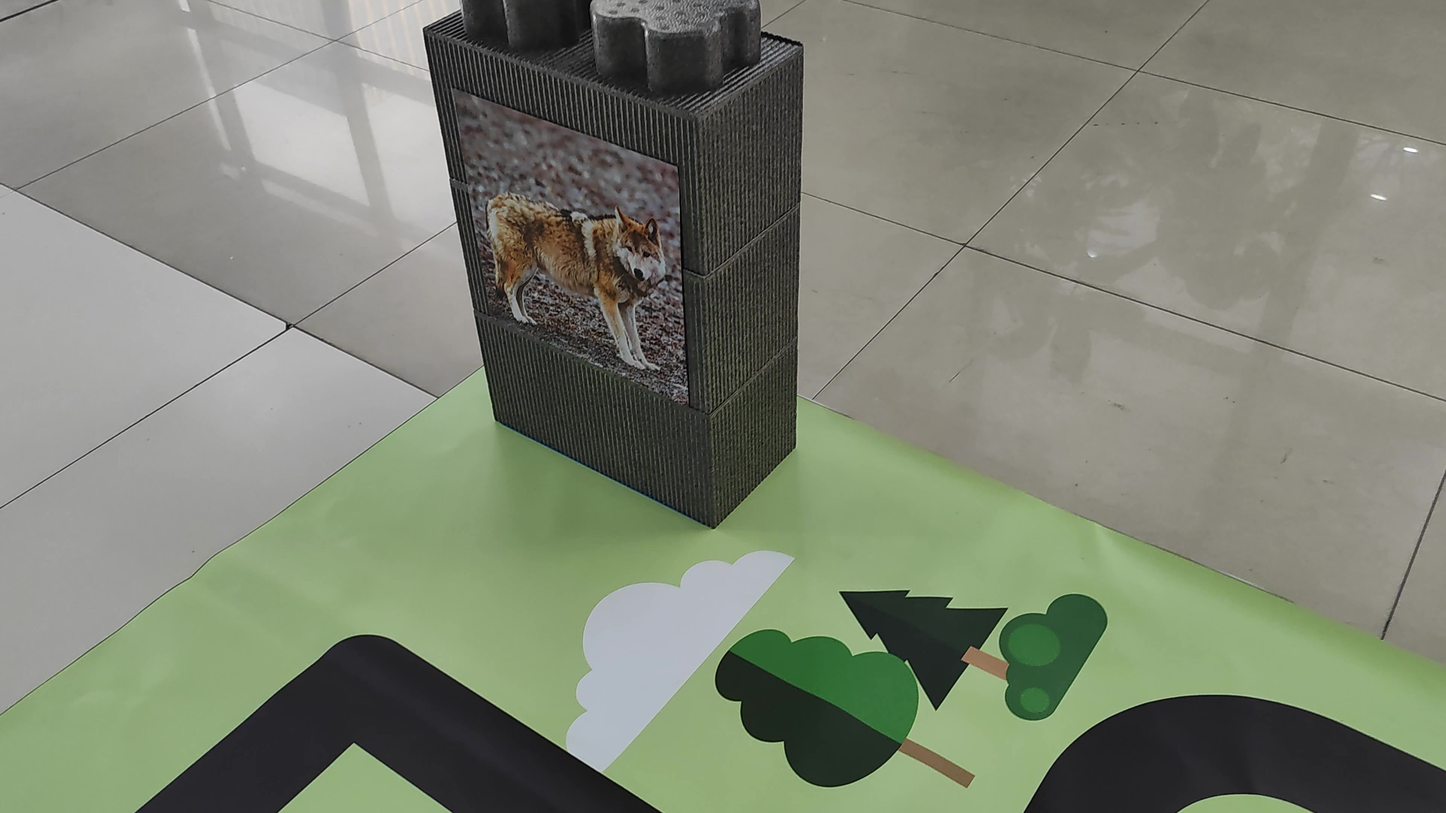wolf: (479, 173, 684, 393)
